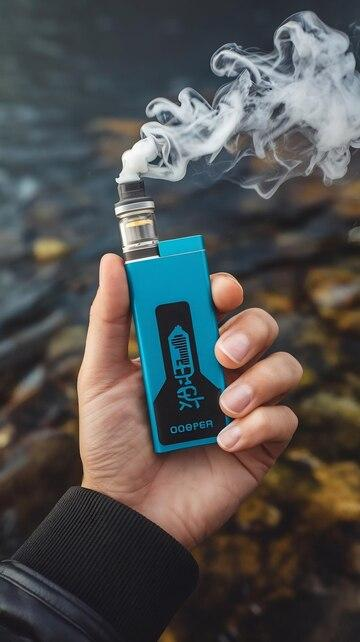Vape: (115, 177, 229, 454)
